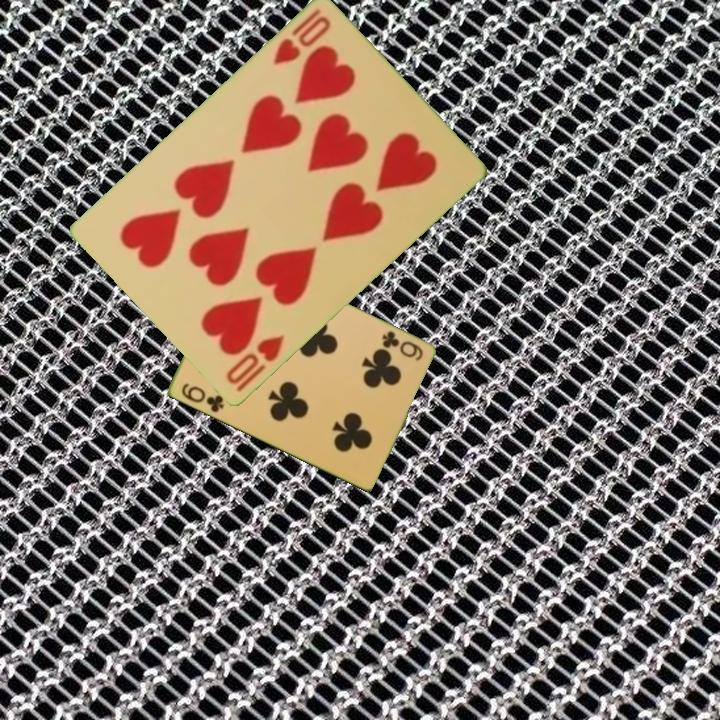10h: (222, 331, 288, 396), (269, 6, 334, 69)
6c: (177, 380, 227, 416), (378, 327, 425, 364)
